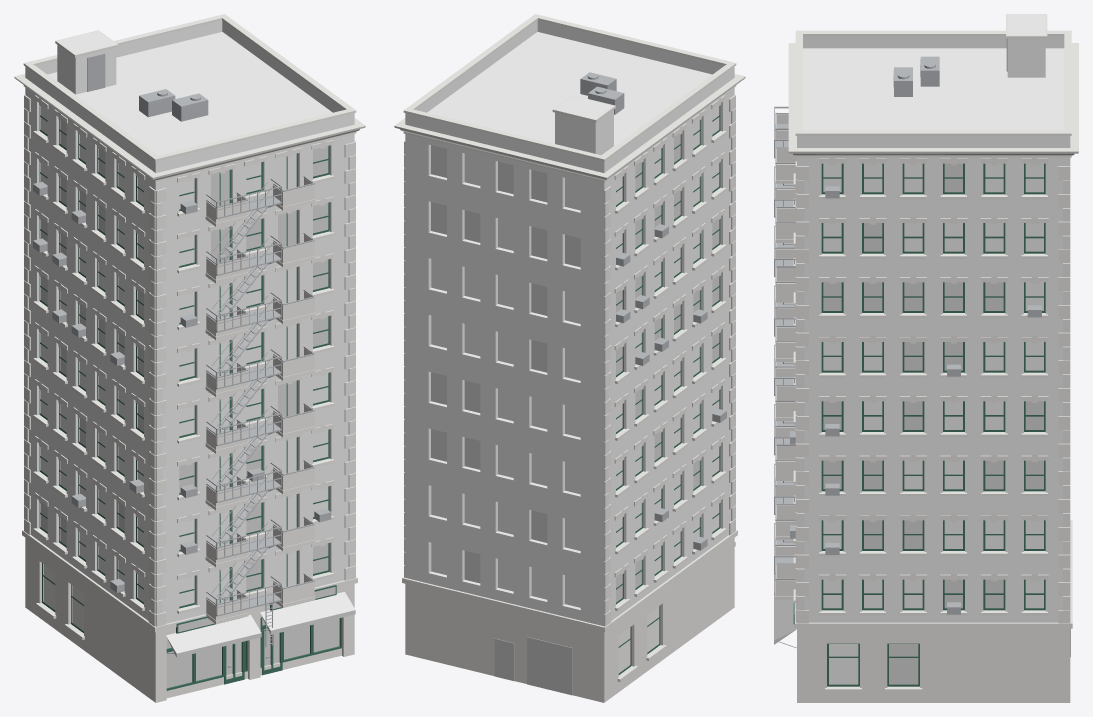
The model's file is midtown_w44f8.glb.
The picture shows the model from 3 angles, left to right: view 1: azimuth 30°, elevation 25°; view 2: azimuth 150°, elevation 25°; view 3: azimuth 270°, elevation 25°; orthographic projection. The views are drawn at different scales.
Parts seen in each view (by area): view 1: midtown_w44f8_Walls, midtown_w44f8_Trim, midtown_w44f8_Glass, midtown_w44f8_Details, midtown_w44f8_Roof, midtown_w44f8_WindowsLit, midtown_w44f8_Frames, midtown_w44f8_Awning; view 2: midtown_w44f8_Walls, midtown_w44f8_Trim, midtown_w44f8_Glass, midtown_w44f8_Roof, midtown_w44f8_WindowsLit, midtown_w44f8_Frames, midtown_w44f8_Doors, midtown_w44f8_Details; view 3: midtown_w44f8_Walls, midtown_w44f8_Trim, midtown_w44f8_Roof, midtown_w44f8_Glass, midtown_w44f8_Frames, midtown_w44f8_WindowsLit, midtown_w44f8_Details, midtown_w44f8_Awning.
Part boxes in pixels (<box>): midtown_w44f8_Walls: <box>25,20,354,623</box>; midtown_w44f8_Trim: <box>14,14,365,702</box>; midtown_w44f8_Glass: <box>41,105,328,631</box>; midtown_w44f8_Details: <box>33,53,331,667</box>; midtown_w44f8_Roof: <box>47,31,332,155</box>; midtown_w44f8_WindowsLit: <box>41,119,339,688</box>; midtown_w44f8_Frames: <box>39,106,341,690</box>; midtown_w44f8_Awning: <box>166,591,355,657</box>; midtown_w44f8_Walls: <box>405,20,734,626</box>; midtown_w44f8_Trim: <box>394,14,745,702</box>; midtown_w44f8_Glass: <box>431,105,718,673</box>; midtown_w44f8_Roof: <box>427,32,712,155</box>; midtown_w44f8_WindowsLit: <box>431,133,718,602</box>; midtown_w44f8_Frames: <box>616,106,720,674</box>; midtown_w44f8_Doors: <box>494,637,572,695</box>; midtown_w44f8_Details: <box>580,72,726,550</box>; midtown_w44f8_Walls: <box>797,36,1070,622</box>; midtown_w44f8_Trim: <box>775,14,1078,702</box>; midtown_w44f8_Roof: <box>803,14,1064,130</box>; midtown_w44f8_Glass: <box>823,163,1043,684</box>; midtown_w44f8_Frames: <box>793,163,1045,686</box>; midtown_w44f8_WindowsLit: <box>823,163,1043,684</box>; midtown_w44f8_Details: <box>774,38,1041,647</box>; midtown_w44f8_Awning: <box>774,574,796,644</box>.
Bounding box in the file's own units: 47.12 × 121 × 55.76.
